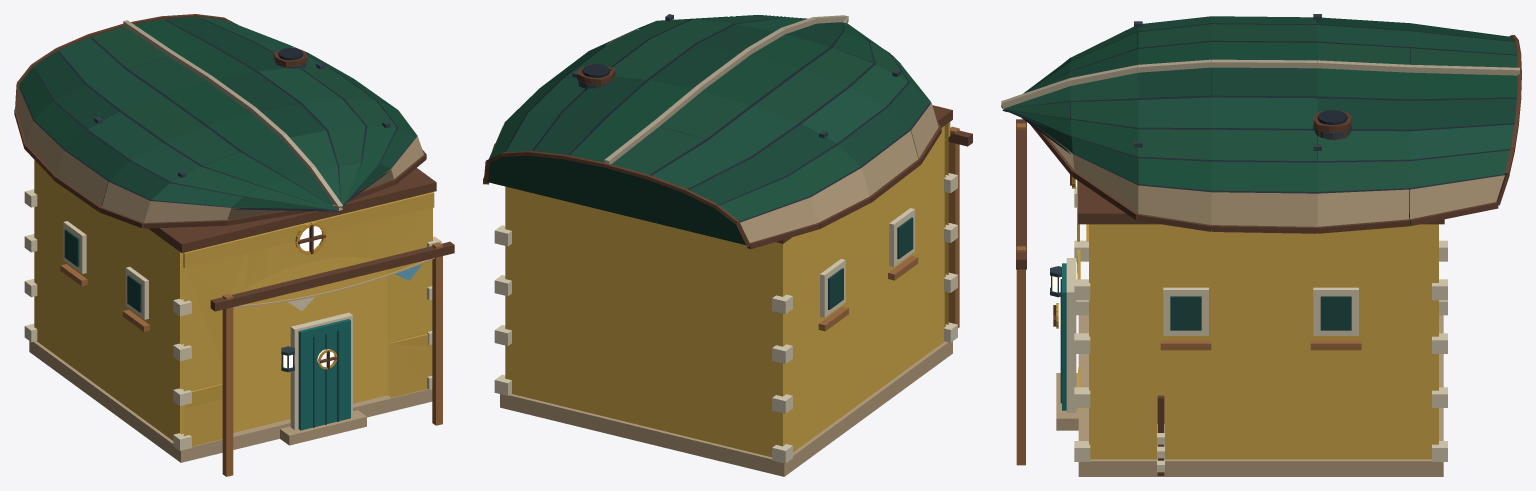
File: boat-shop-large-butter.glb
3 views of the same model, side by side, from view 1: azimuth 30°, elevation 25°; view 2: azimuth 150°, elevation 25°; view 3: azimuth 270°, elevation 25° (orthographic). The views are drawn at different scales.
Visible parts, largest first — view 1: boat-shop-large-butter; view 2: boat-shop-large-butter; view 3: boat-shop-large-butter.
Part boxes in pixels (left/top/right/bottom): boat-shop-large-butter: left=14, top=14, right=454, bottom=476; boat-shop-large-butter: left=483, top=14, right=972, bottom=476; boat-shop-large-butter: left=1001, top=14, right=1521, bottom=476.
Bounding box in the file's own units: 5.92 × 5.19 × 7.18.
